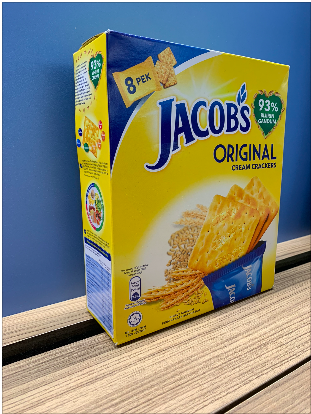Crackers_200-299g: (103, 61, 277, 308)
